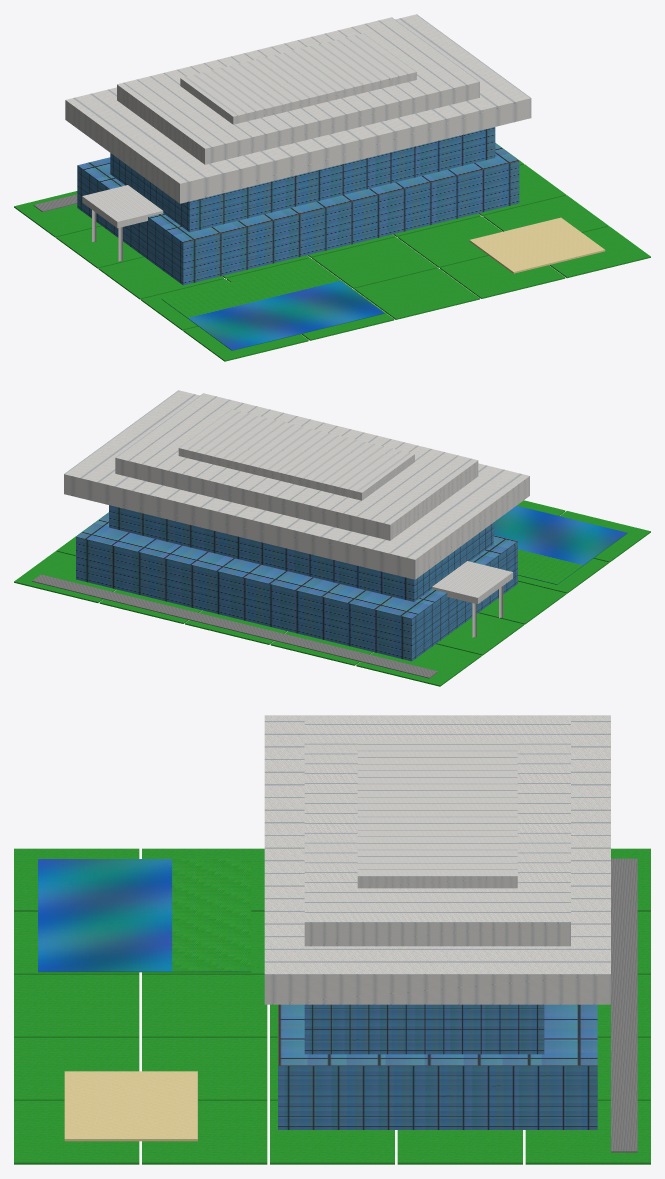
The picture shows the model from 3 angles, top to bottom: view 1: azimuth 30°, elevation 25°; view 2: azimuth 150°, elevation 25°; view 3: azimuth 270°, elevation 25°; orthographic projection. The views are drawn at different scales.
Visible parts, largest first — view 1: 28185_B16_Jack_Nicklaus_Golf_Club; view 2: 28185_B16_Jack_Nicklaus_Golf_Club; view 3: 28185_B16_Jack_Nicklaus_Golf_Club.
Boxes of the visible parts, x1,y1,x2,y2 form: 28185_B16_Jack_Nicklaus_Golf_Club: (14,14,650,361); 28185_B16_Jack_Nicklaus_Golf_Club: (14,390,650,686); 28185_B16_Jack_Nicklaus_Golf_Club: (14,715,650,1164).
Size of the model in its own units: 55.8 by 16.5 by 47.8.
Materials: 1 (1 with a texture image).
